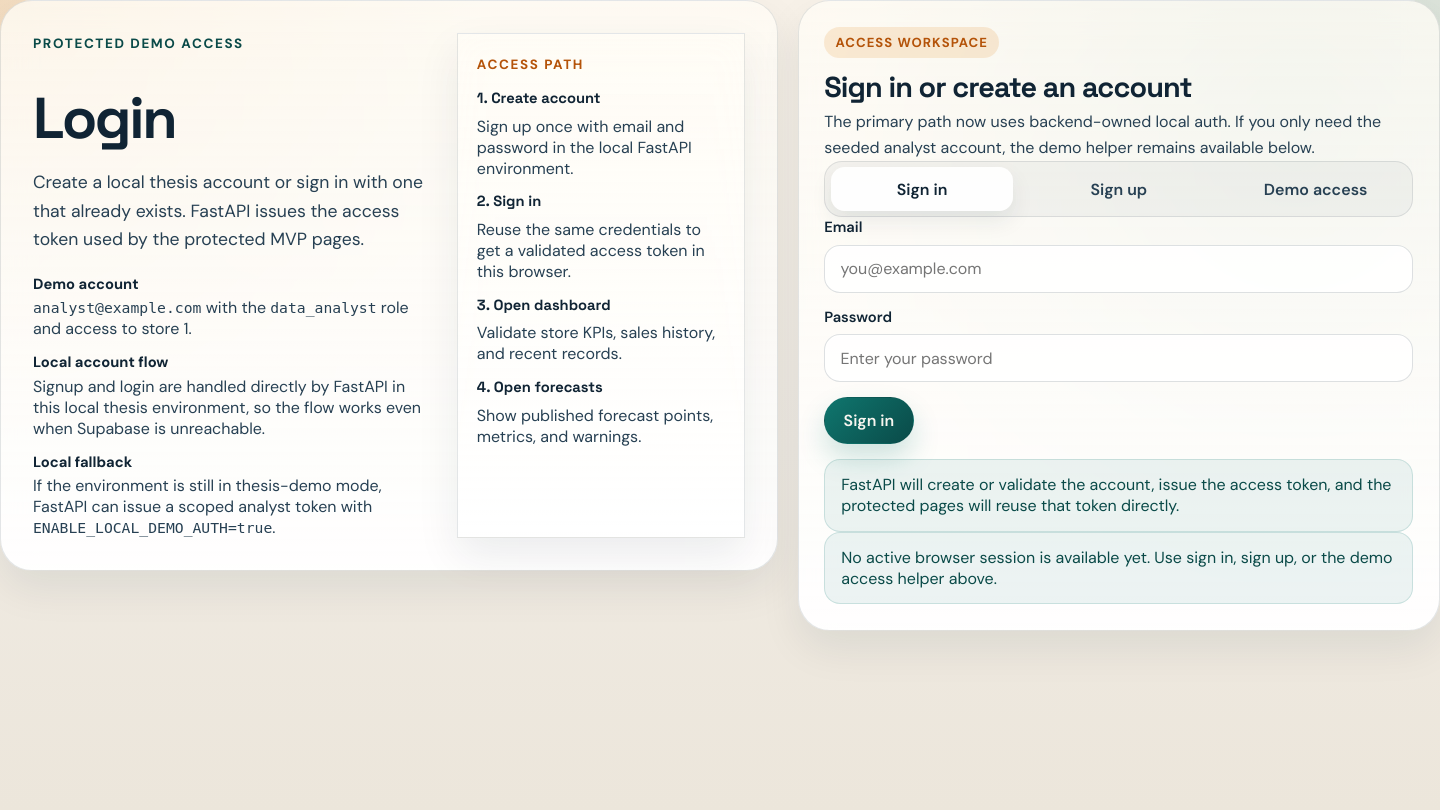
Test: LoginPage › shows a helpful error when the backend helper is unavailable
Click the button with aria-label "Switch to demo access" at (1316, 189), box [1224,167,1407,211]
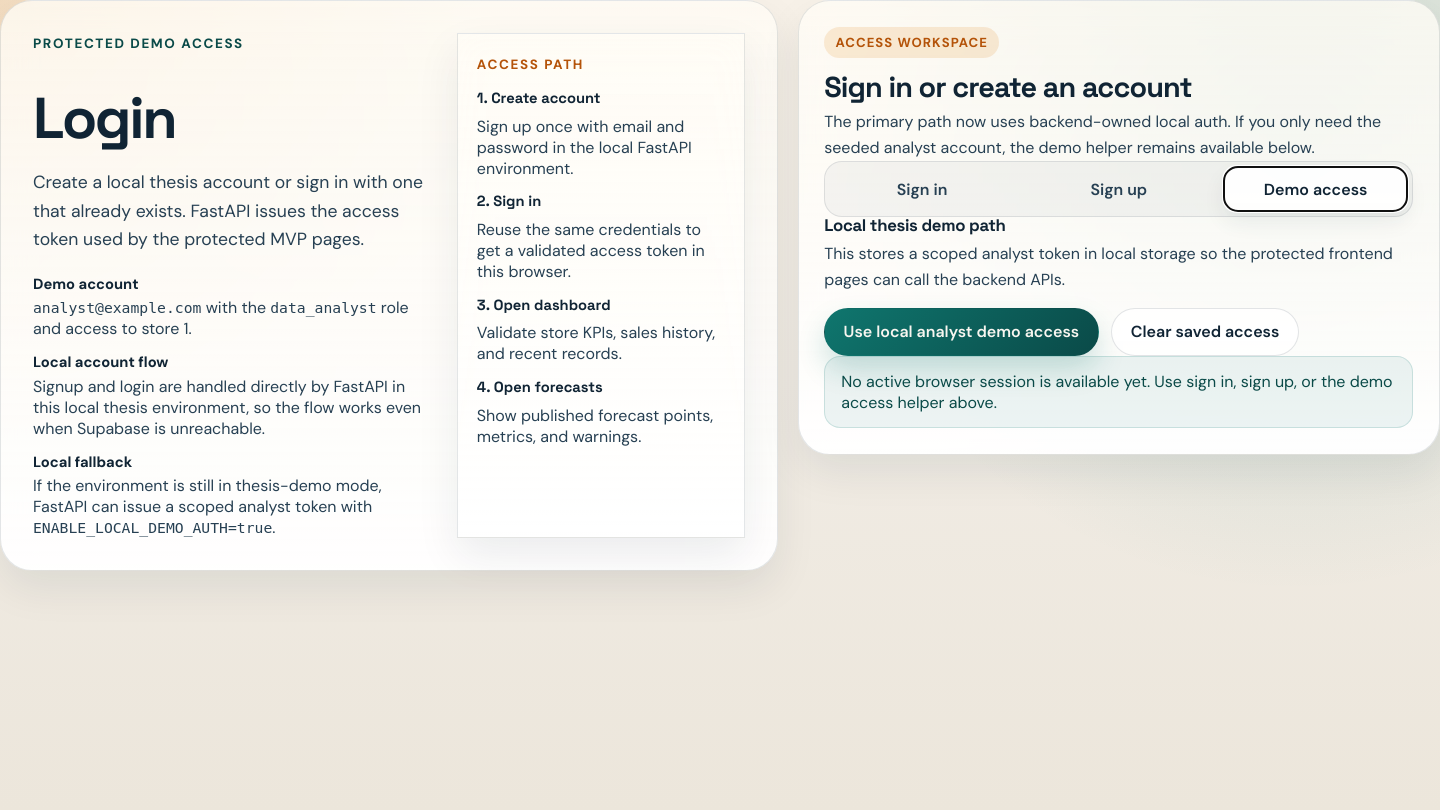
Click the button "Use local analyst demo access" at (961, 332), box [824,308,1098,356]
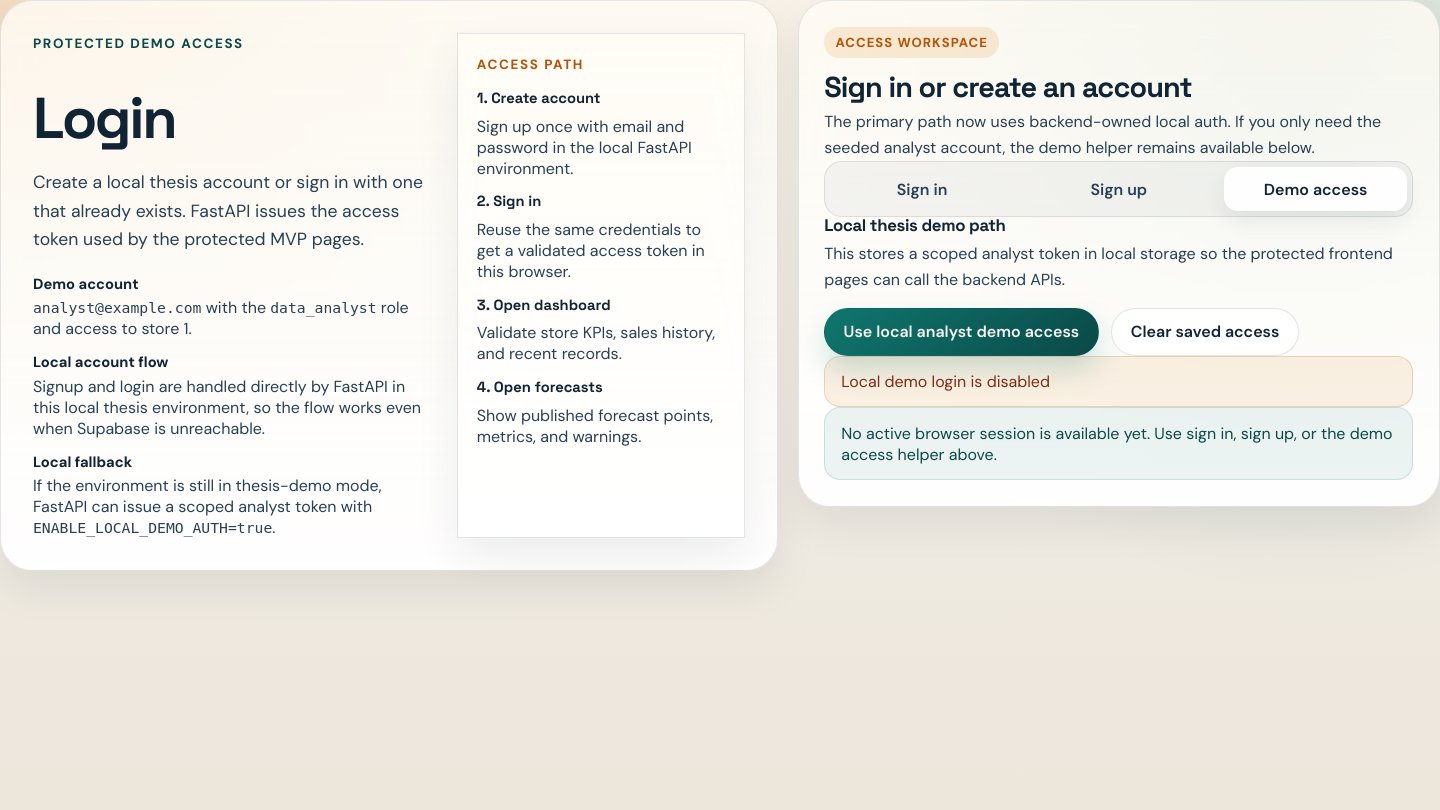
Expected: the message reads "Local demo login is disabled", [841,371,1050,392]
